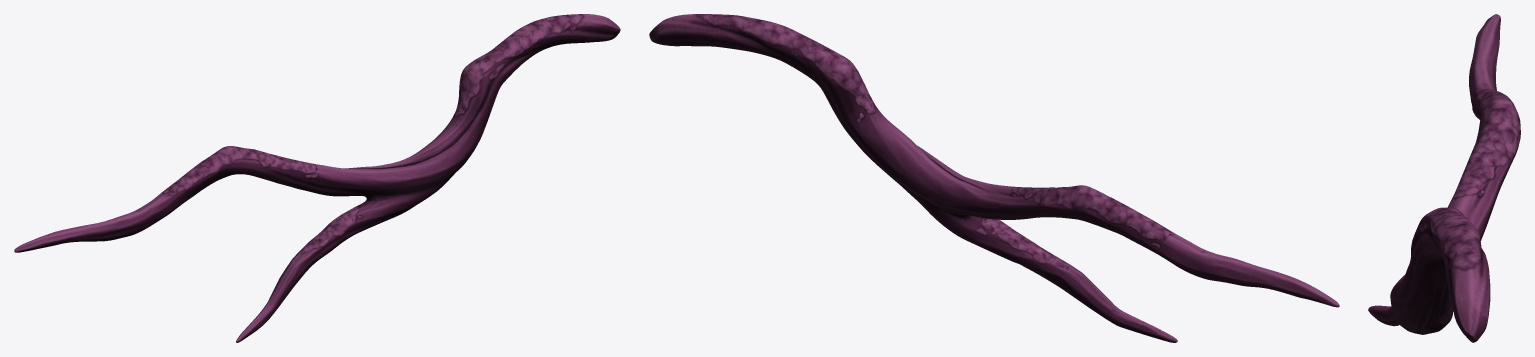
File: sky_root_02a_chaos.glb
3 renders of one model, left to right at view 1: azimuth 30°, elevation 25°; view 2: azimuth 150°, elevation 25°; view 3: azimuth 270°, elevation 25°, orthographic. The views are drawn at different scales.
Visible parts, largest first — view 1: root_02a; view 2: root_02a; view 3: root_02a.
Part boxes in pixels (bbox=[...]): root_02a: bbox=[14, 14, 620, 342]; root_02a: bbox=[649, 14, 1339, 342]; root_02a: bbox=[1368, 14, 1520, 342].
Bounding box in the file's own units: 11.32 × 3.94 × 1.65.
1 material, 1 textured.
